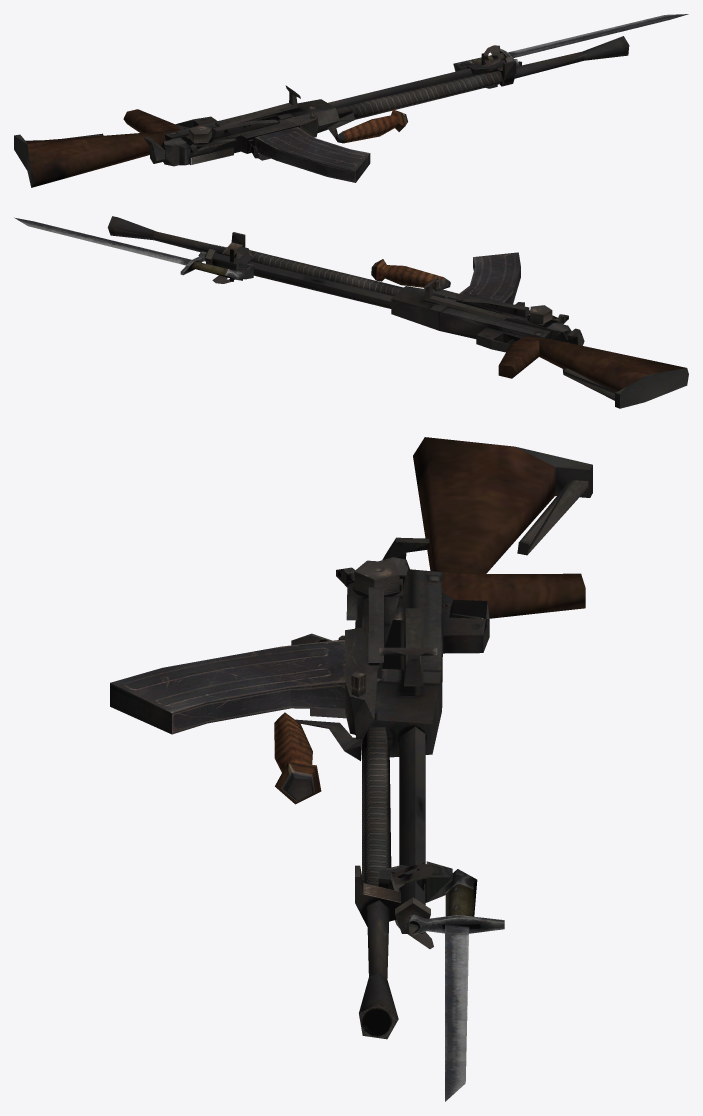
File: weapon_jap_type99_bayonet_lmg_LOD11.obj
3 renders of one model, top to bottom at view 1: azimuth 30°, elevation 25°; view 2: azimuth 150°, elevation 25°; view 3: azimuth 270°, elevation 25°, orthographic. The views are drawn at different scales.
Parts seen in each view (by area): view 1: TomGroup_0, TomGroup_2, TomGroup_1; view 2: TomGroup_0, TomGroup_2, TomGroup_1; view 3: TomGroup_0, TomGroup_2, TomGroup_1.
Boxes of the visible parts, x1,y1,x2,y2 form: TomGroup_0: (14,36,629,187); TomGroup_2: (26,109,407,187); TomGroup_1: (453,14,688,71); TomGroup_0: (107,216,688,408); TomGroup_2: (371,259,686,391); TomGroup_1: (14,217,243,280); TomGroup_0: (110,446,592,1039); TomGroup_2: (274,437,585,804); TomGroup_1: (405,869,504,1101).
Size of the model in its own units: 147 by 10.24 by 46.52.
Materials: 2 (2 with a texture image).
